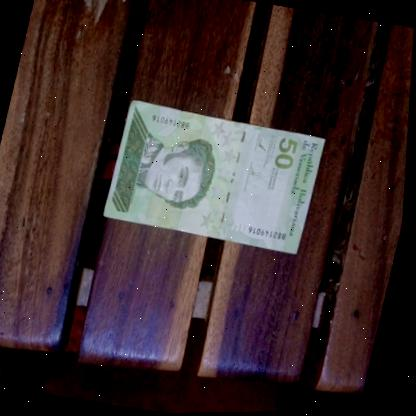fifty-front-vef: (101, 96, 331, 257)
